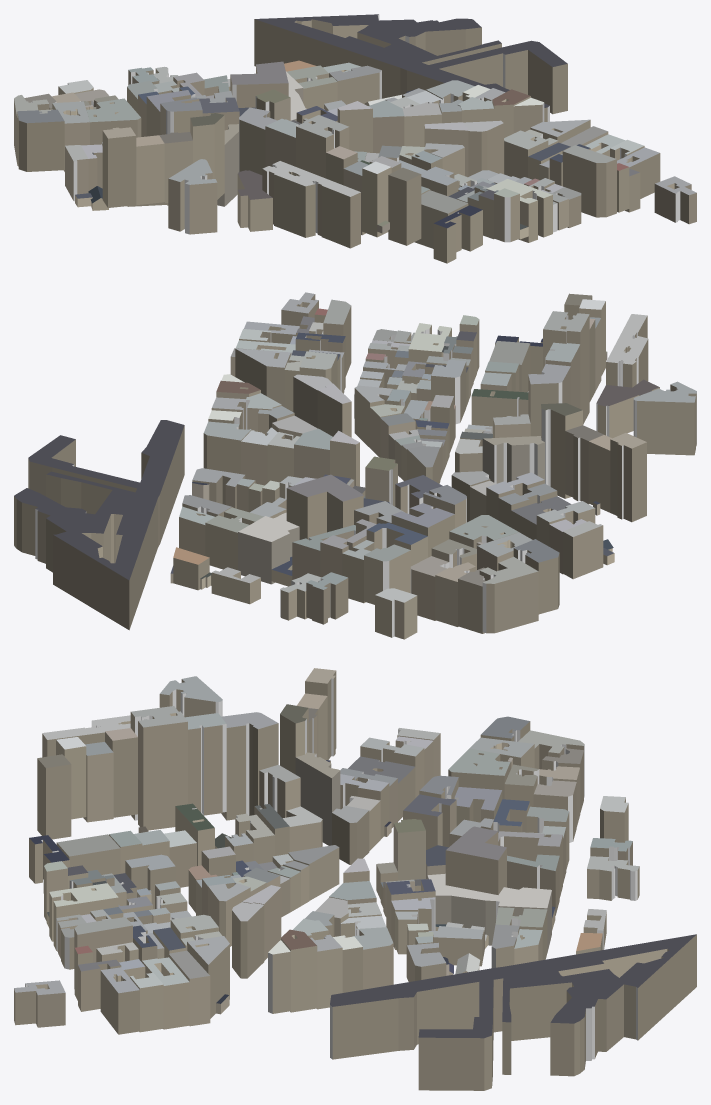
The picture shows the model from 3 angles, top to bottom: view 1: azimuth 30°, elevation 25°; view 2: azimuth 150°, elevation 25°; view 3: azimuth 270°, elevation 25°; orthographic projection. The views are drawn at different scales.
Parts seen in each view (by area): view 1: tuile; view 2: tuile; view 3: tuile.
Boxes of the visible parts, x1,y1,x2,y2 form: tuile: (14,14,696,263); tuile: (14,292,696,639); tuile: (14,668,696,1090).
Size of the model in its own units: 288 by 84.9 by 298.
